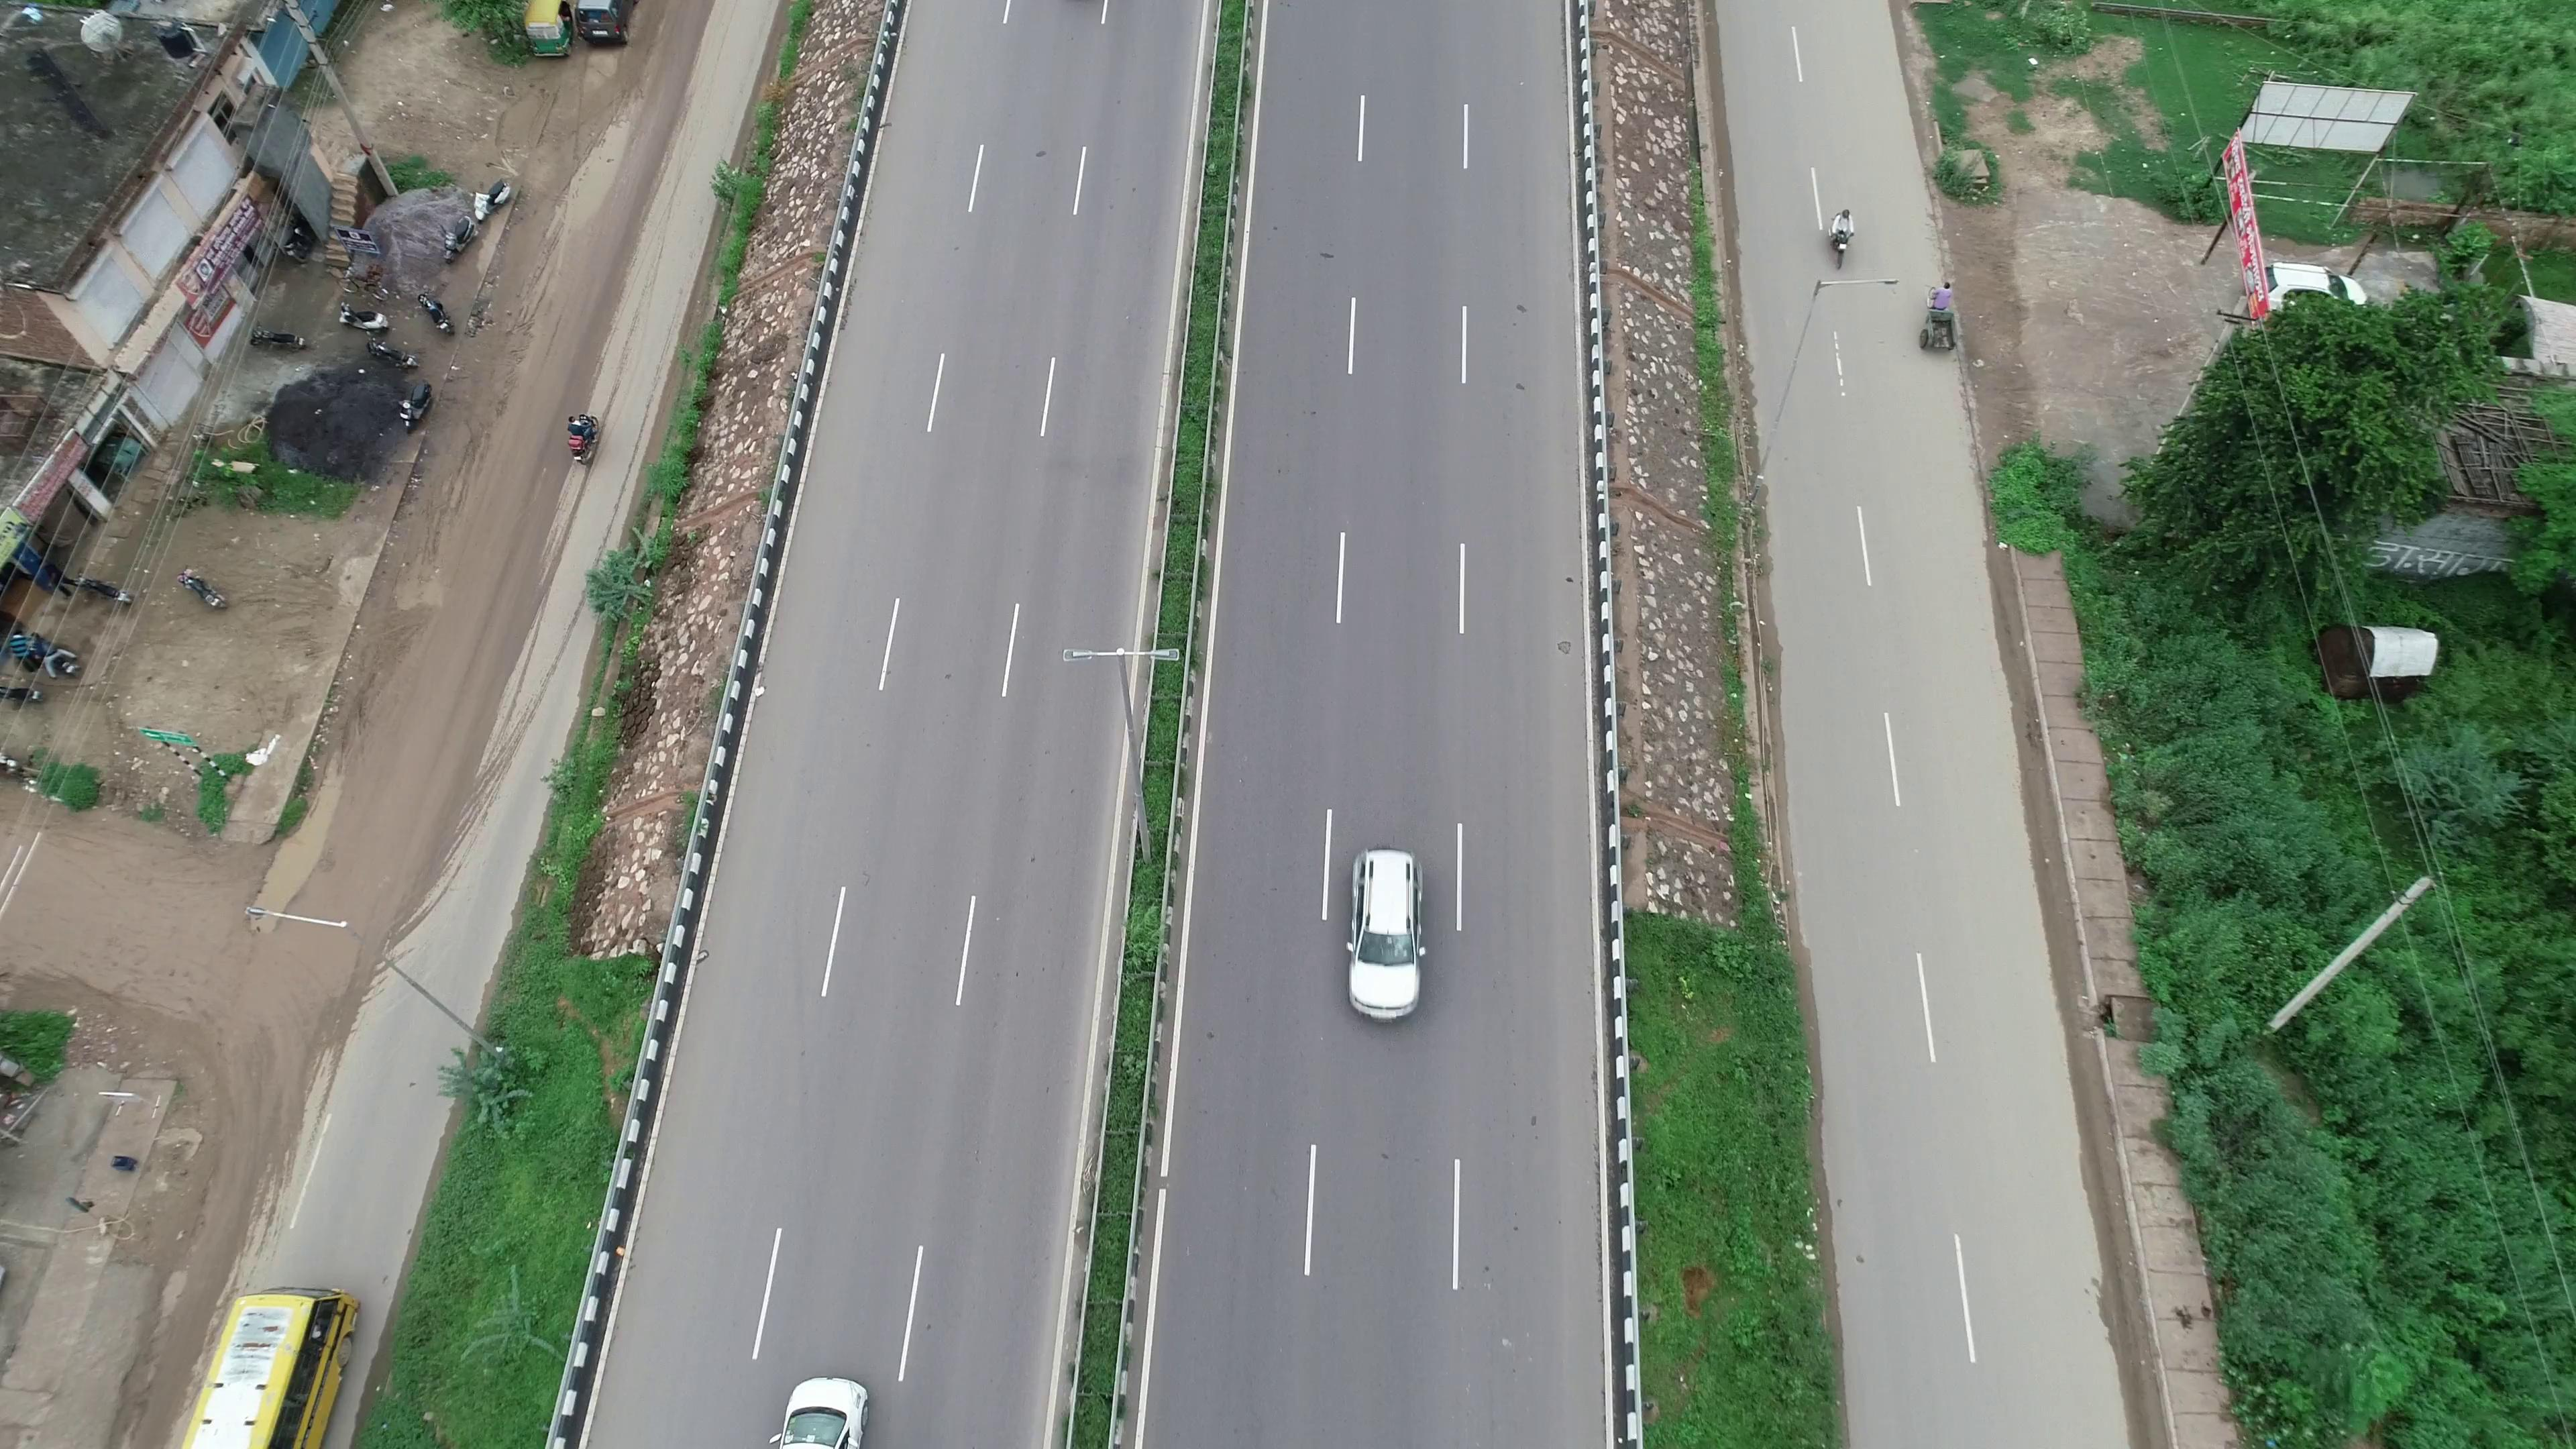Muddy_road: (299, 616, 506, 918), (379, 324, 561, 598)
